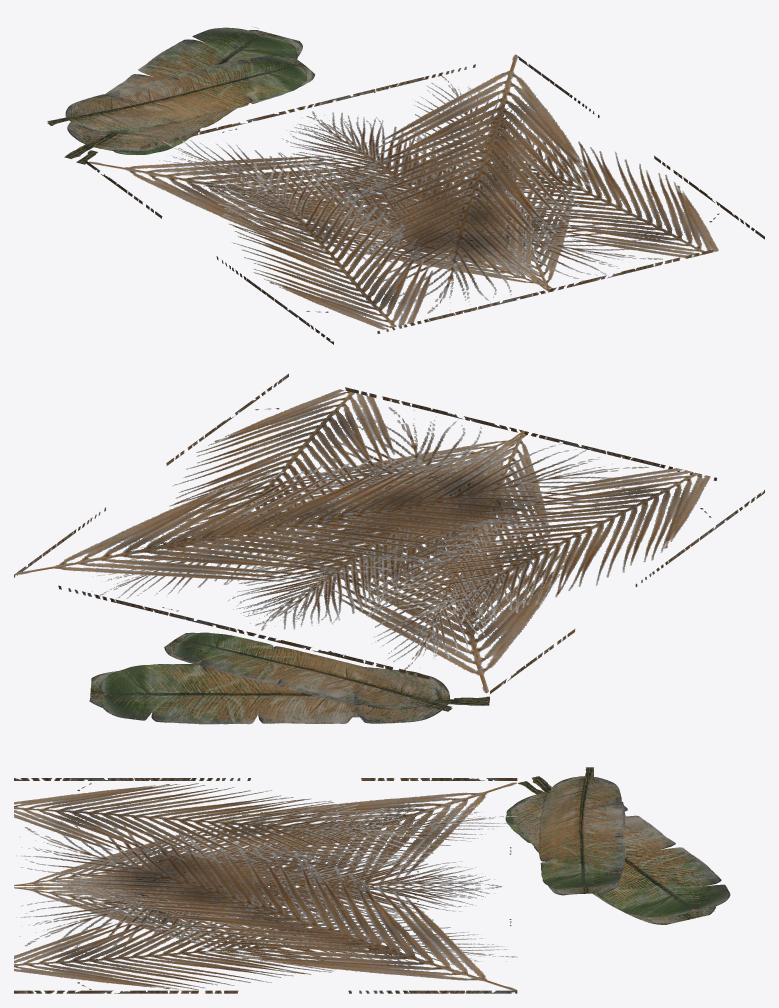
File: leaves.fbx
The picture shows the model from 3 angles, top to bottom: view 1: azimuth 30°, elevation 25°; view 2: azimuth 150°, elevation 25°; view 3: azimuth 270°, elevation 25°; orthographic projection. The views are drawn at different scales.
Parts seen in each view (by area): view 1: coconut_leaf, Bananaleaf; view 2: coconut_leaf, Bananaleaf; view 3: coconut_leaf, Bananaleaf.
Part boxes in pixels (<box>): coconut_leaf: <box>85,54,764,344</box>; Bananaleaf: <box>47,26,315,164</box>; coconut_leaf: <box>14,373,764,693</box>; Bananaleaf: <box>89,632,489,724</box>; coconut_leaf: <box>14,778,517,993</box>; Bananaleaf: <box>505,767,730,924</box>.
Bounding box in the file's own units: 110 × 3.53 × 152.
